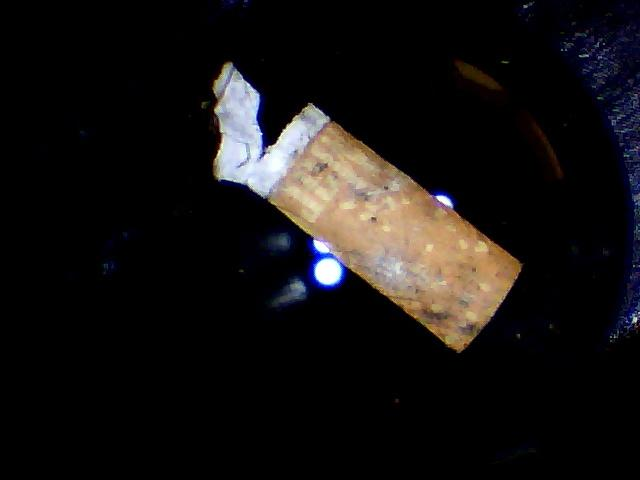megot: (197, 52, 527, 362)
